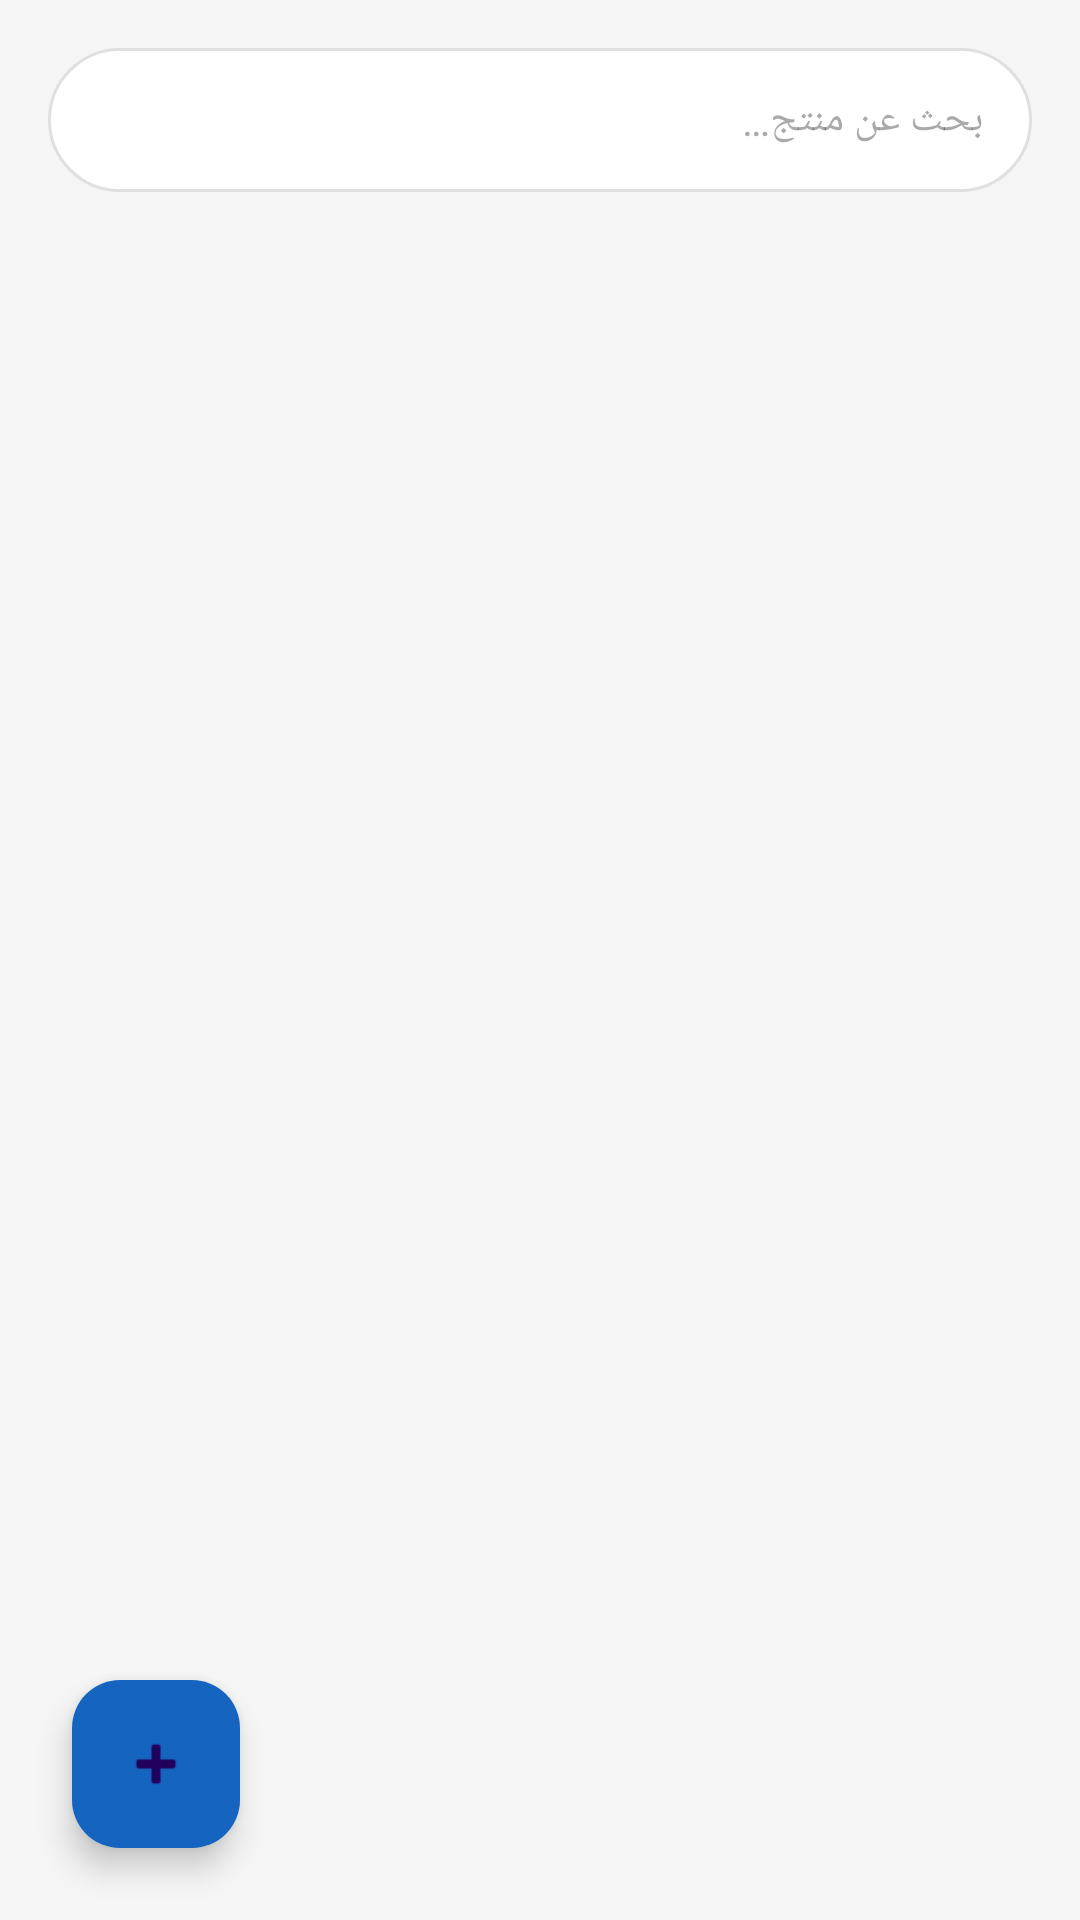

Icons on this 1080*1920 Android screen, each with the point to tap as point (x, y):
إضافة منتج: point (156, 1764)
